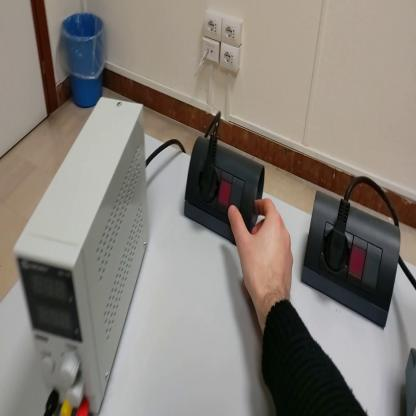hand: (228, 196, 296, 312)
oscilloscope: (405, 347, 416, 416)
socket: (307, 187, 403, 333), (186, 134, 267, 244)
